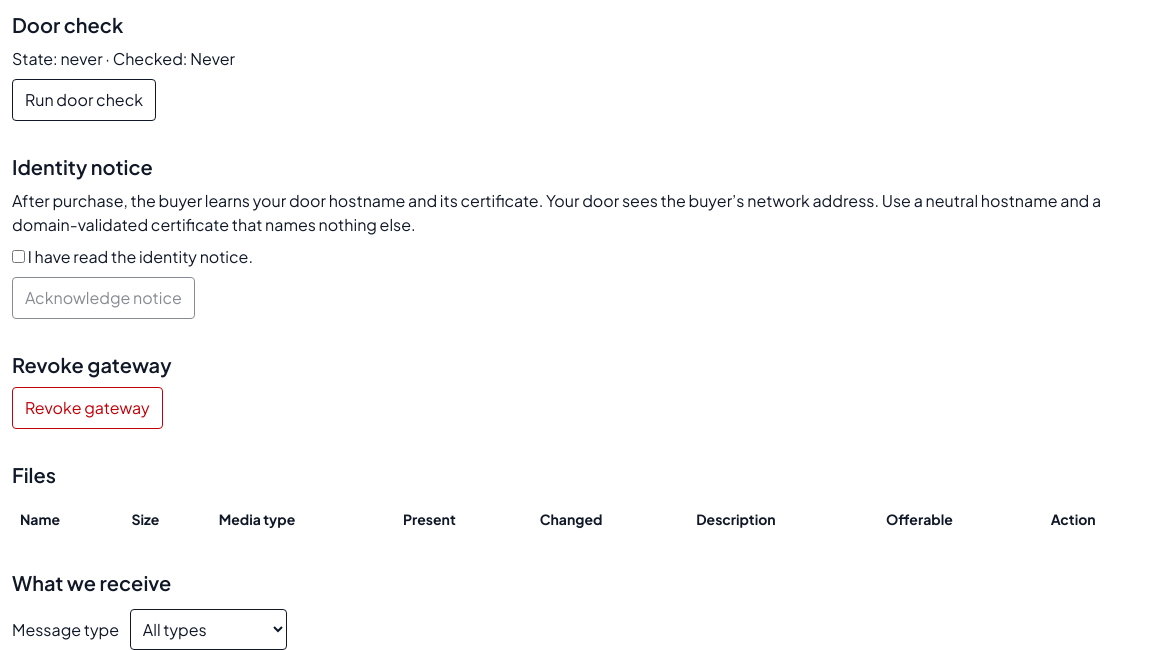
a current filter failure remains visible
This screenshot has width=1164, height=650.
(page scrolled)
Step 1. Select "inventory" in the dropdown labelled "Message type" → (208, 630), box x1=130 y1=609 x2=287 y2=649
(page scrolled)
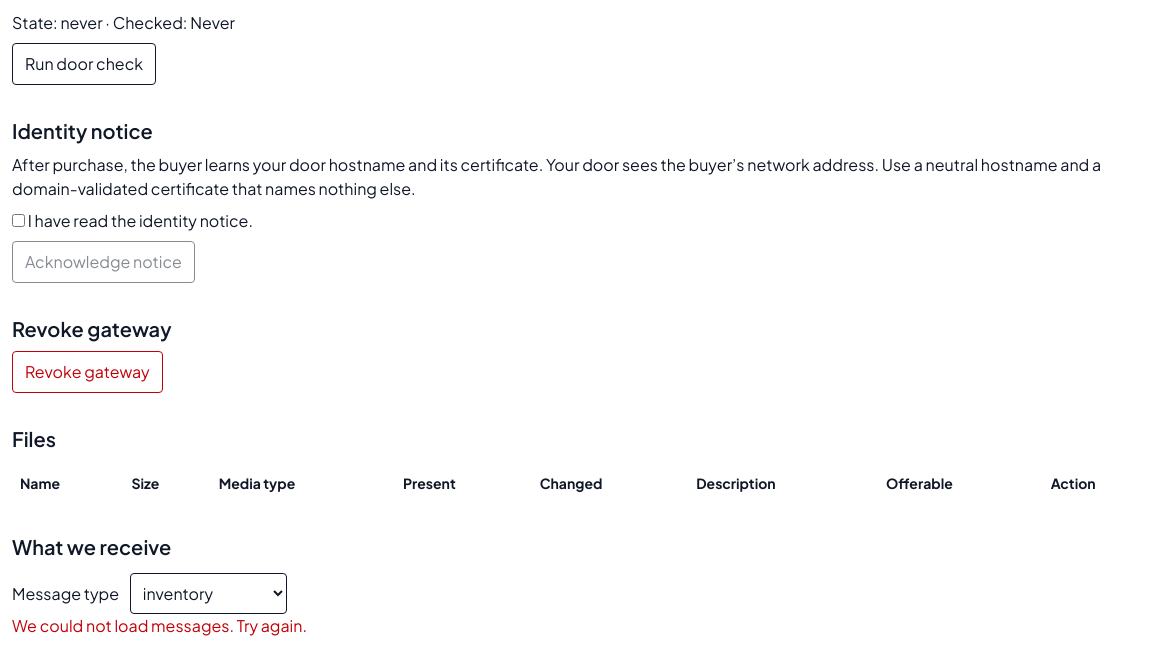
Result: the message reads "We could not load messages. Try again." at x1=12 y1=615 x2=307 y2=636
